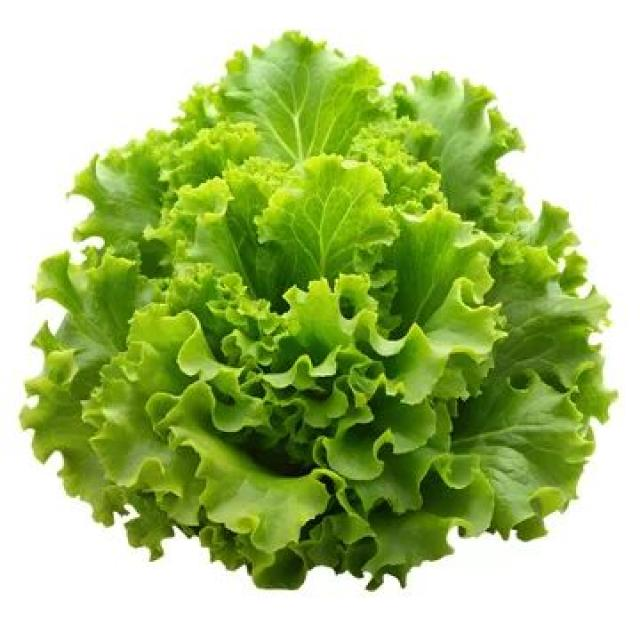lettuce: (24, 34, 611, 588)
